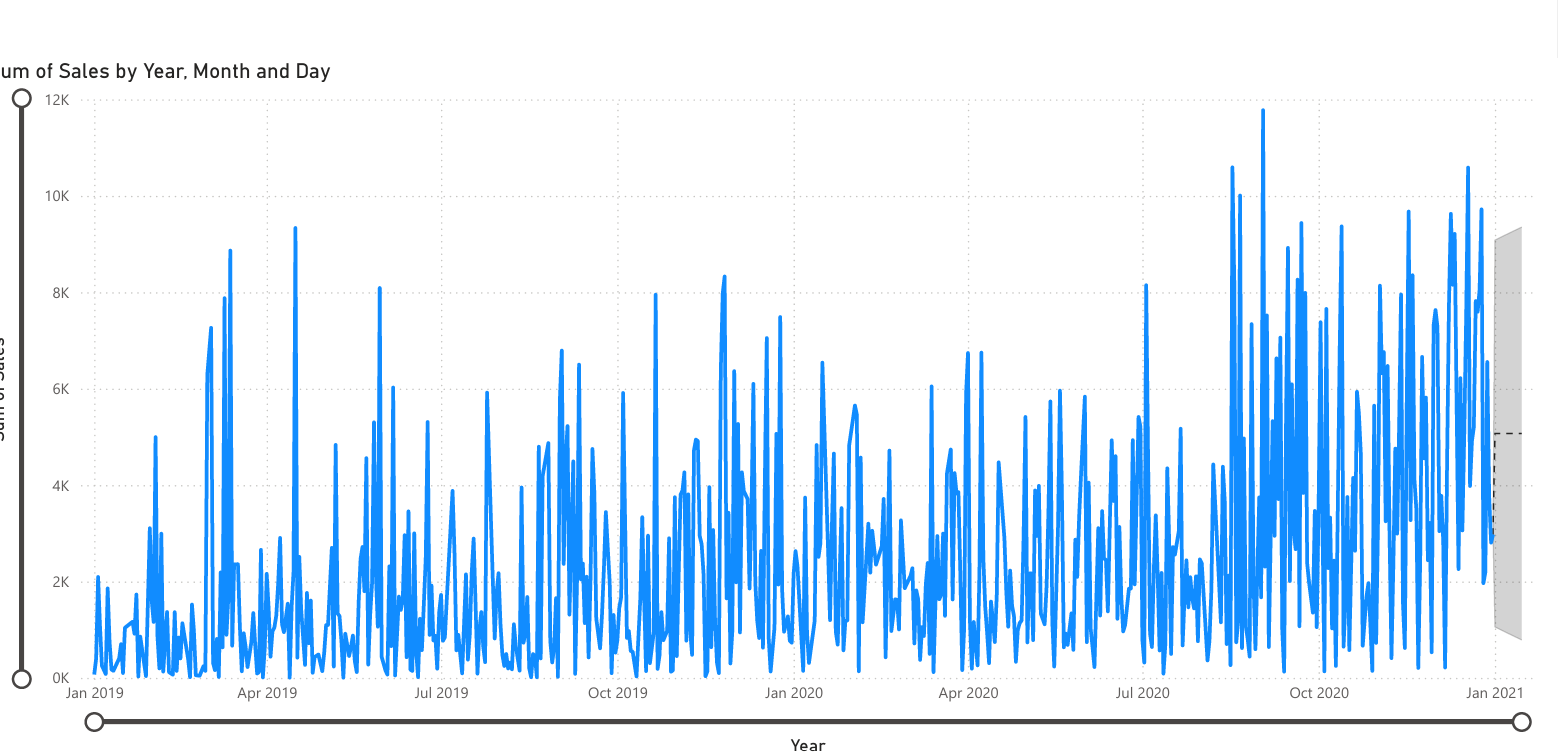

The page's visual inventory and layout, read from the dashboard file:
{"tool":"powerbi","page":{"name":"Sales Forcast","canvas":[1280,720],"ordinal":1},"visuals":[{"type":"lineChart","fields":{"Y":["Sum(Table1.Sales)"],"Category":["Table1.Order Date.Variation.Date Hierarchy.Year","Table1.Order Date.Variation.Date Hierarchy.Month","Table1.Order Date.Variation.Date Hierarchy.Day"]},"box":[18.6,157.1,1261.4,562.9],"z":0}]}

Visuals, with their boxes in screenshot pixels (x1, y1, x2, y2):
lineChart - Sum(Table1.Sales) x Table1.Order Date.Variation.Date Hierarchy.Year: 14,160,1265,718
